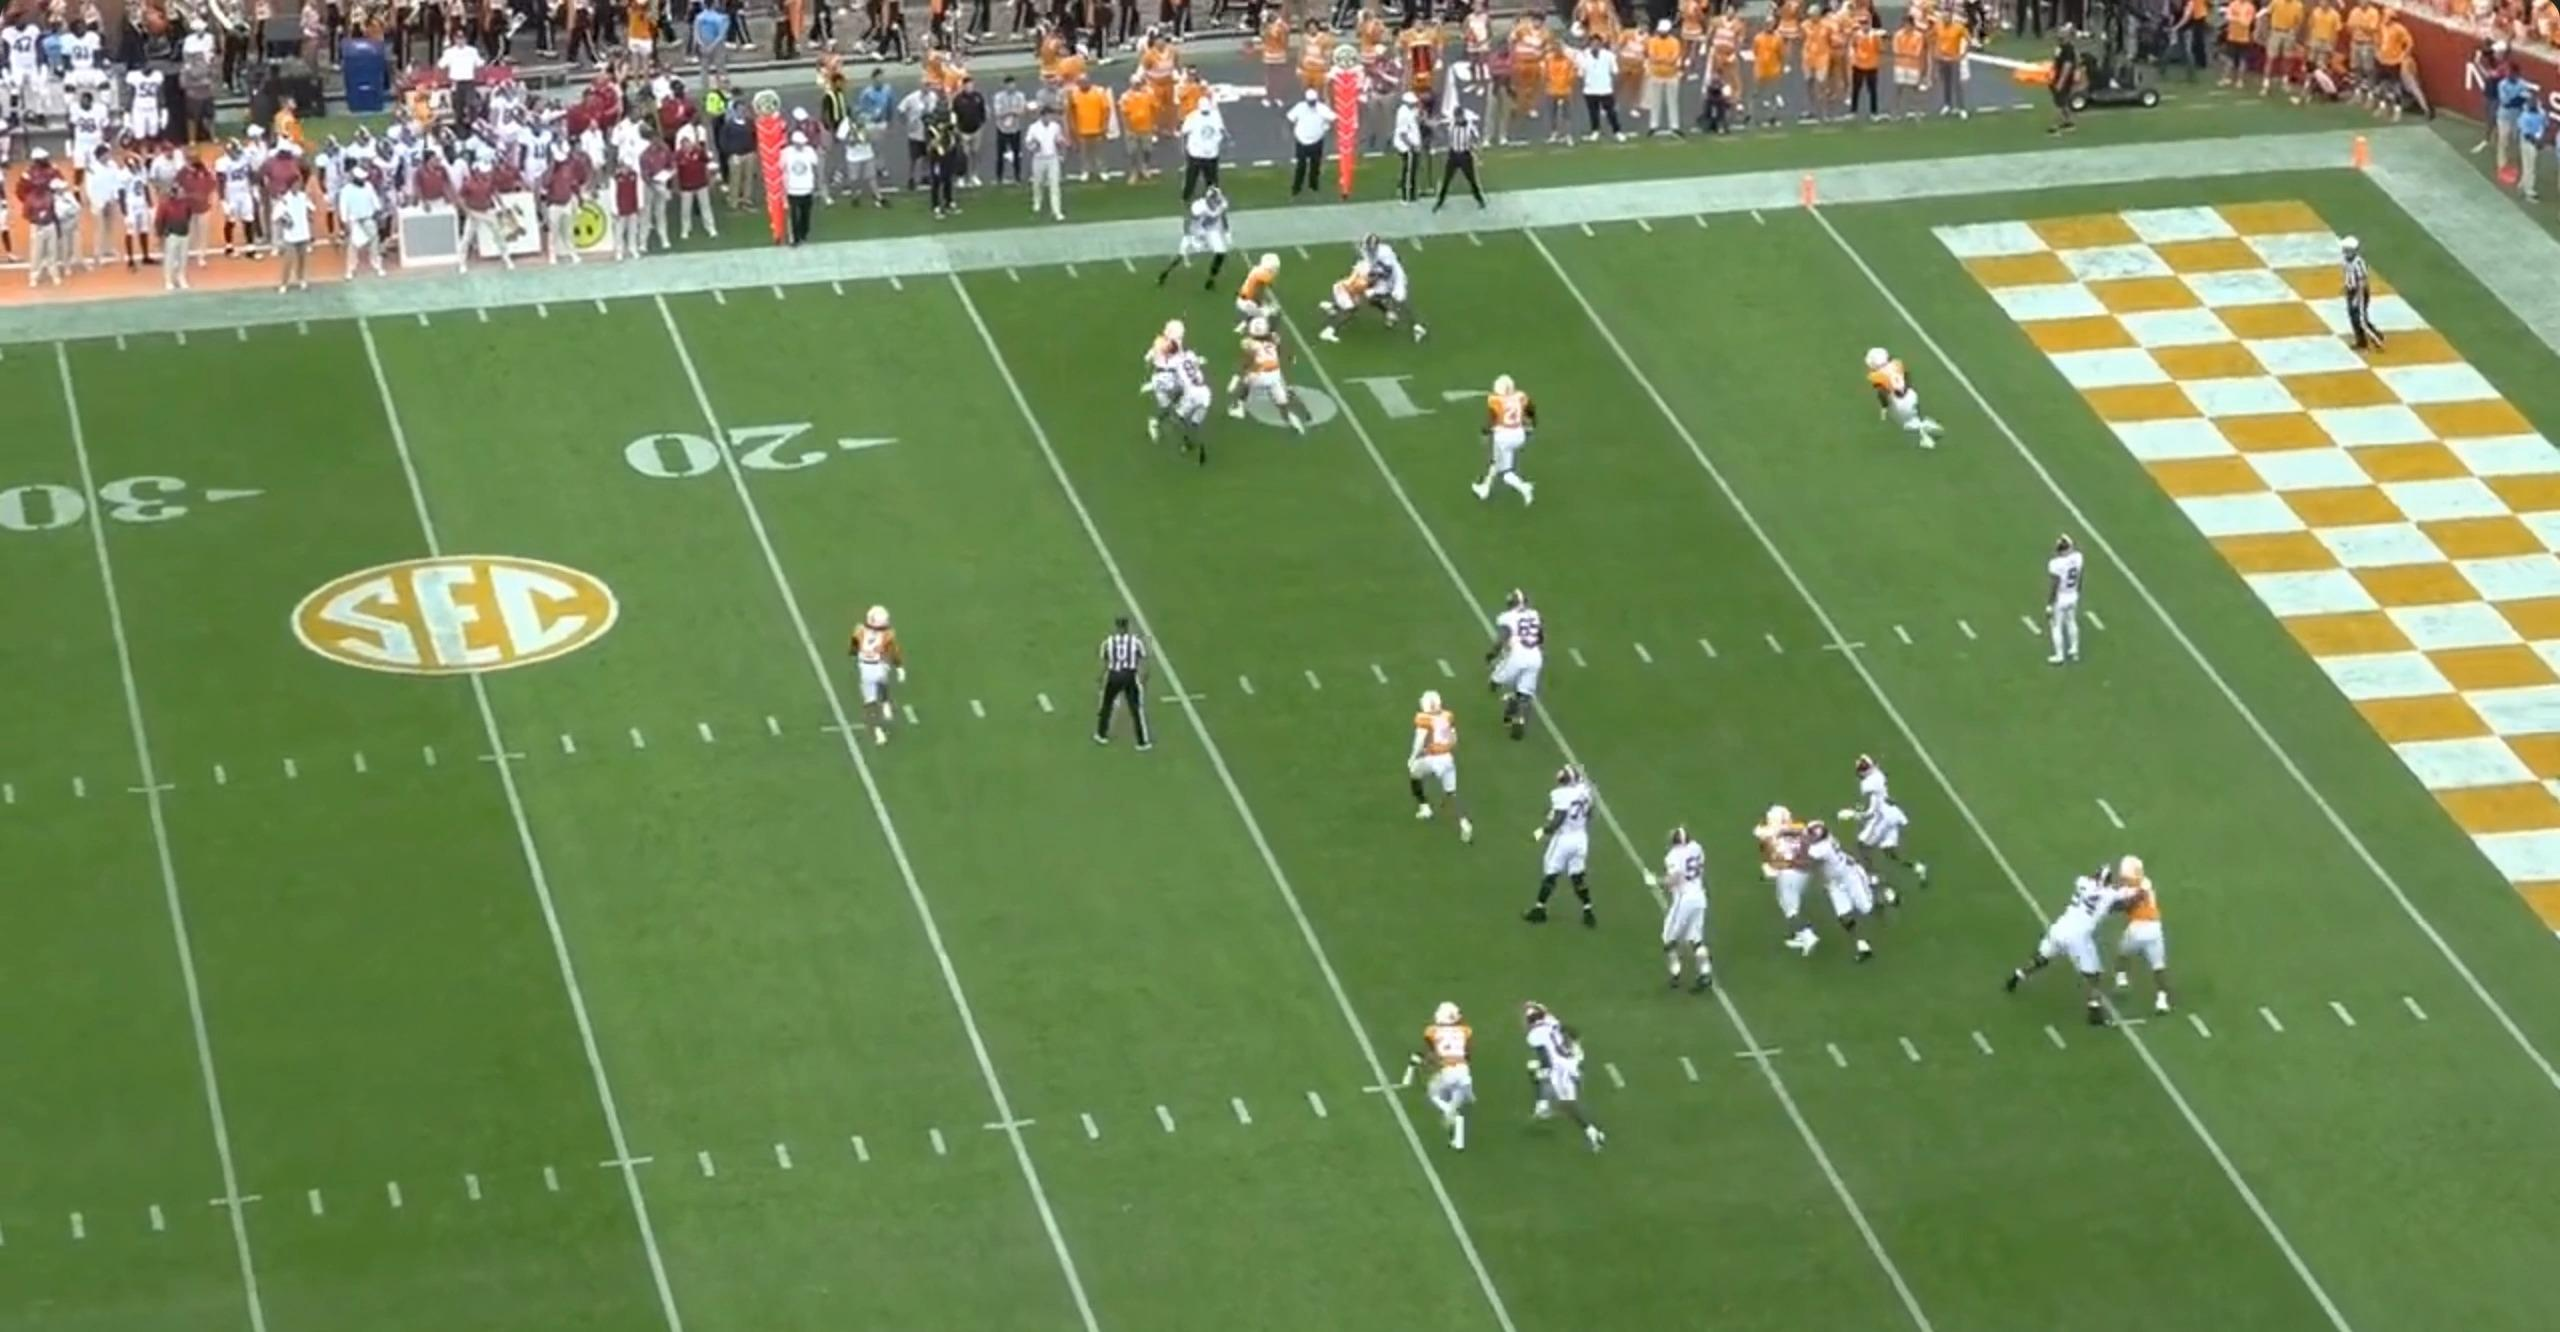defense: (2091, 855, 2174, 1021), (1412, 997, 1493, 1161), (1742, 797, 1818, 955), (1409, 687, 1476, 841), (1234, 316, 1322, 435), (1866, 344, 1957, 455), (840, 606, 908, 755), (1466, 367, 1534, 509), (1143, 320, 1206, 447), (1307, 257, 1383, 349), (1233, 252, 1292, 349)
oline: (1998, 870, 2133, 1009), (1795, 828, 1898, 971), (1527, 758, 1612, 931), (1647, 821, 1725, 999), (1476, 592, 1544, 750)
qb: (2044, 530, 2105, 667)
ref: (1085, 613, 1155, 757), (1426, 100, 1485, 215), (2335, 228, 2386, 354)
skill: (1524, 999, 1622, 1158), (1840, 748, 1944, 889), (1151, 342, 1228, 474), (1150, 184, 1228, 296), (1360, 228, 1427, 344)
